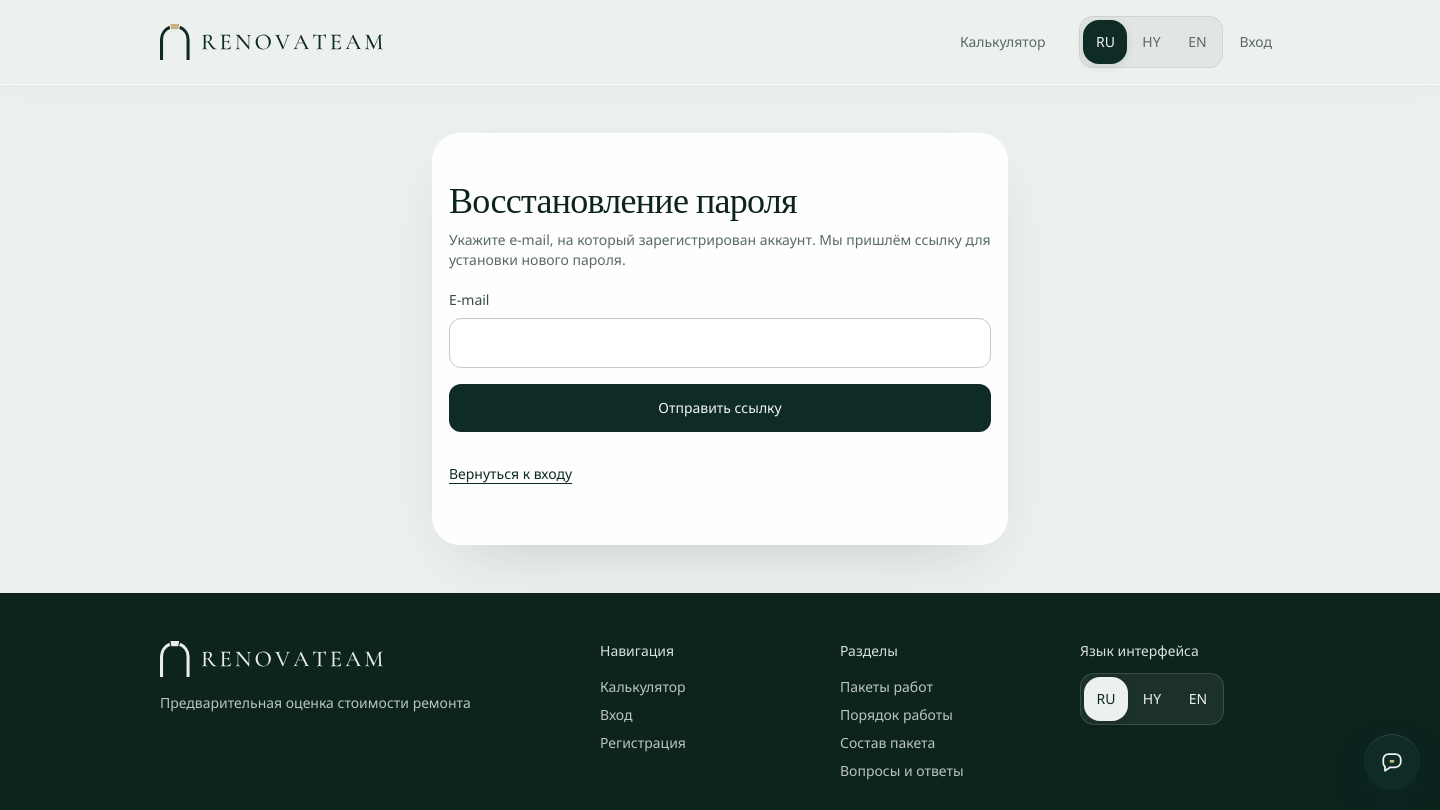
запрос письма восстановления › пустой или неверный адрес не уходит на сервер
This screenshot has width=1440, height=810.
In the field labelled "E-mail": x=720, y=343 [449, 318, 991, 368], type "не-адрес"
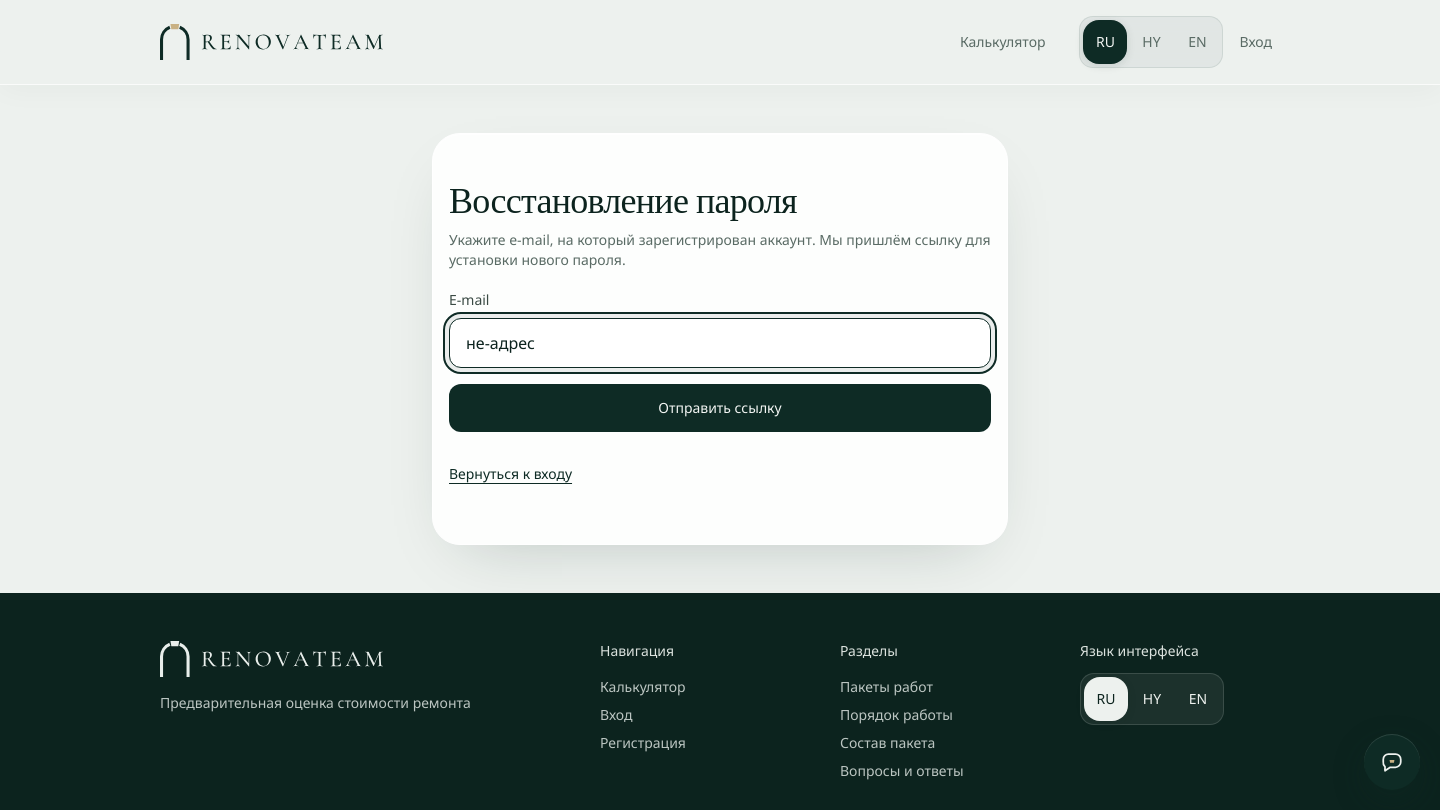
Click the button "Отправить ссылку": x=720, y=408 [449, 384, 991, 432]
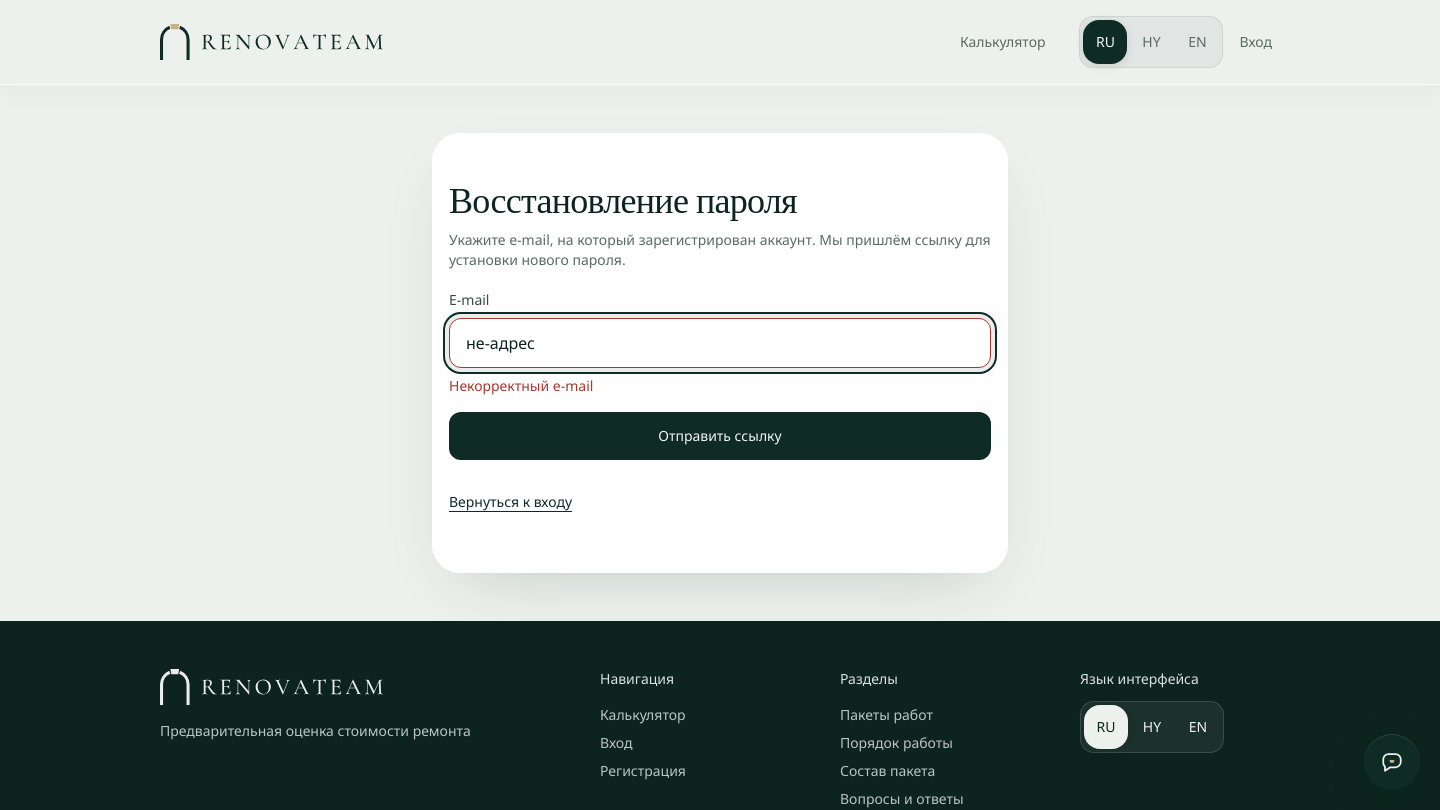
Expected: the text "Некорректный e-mail" is shown, [449, 376, 593, 395]
